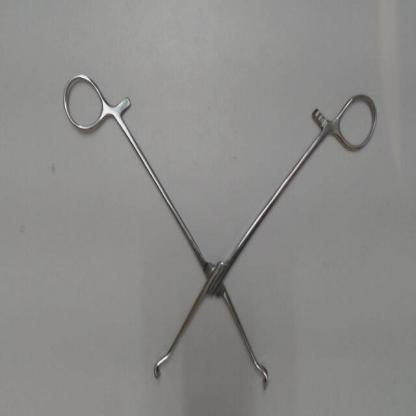8 Babcock Tissue Forceps: (59, 59, 386, 406)
